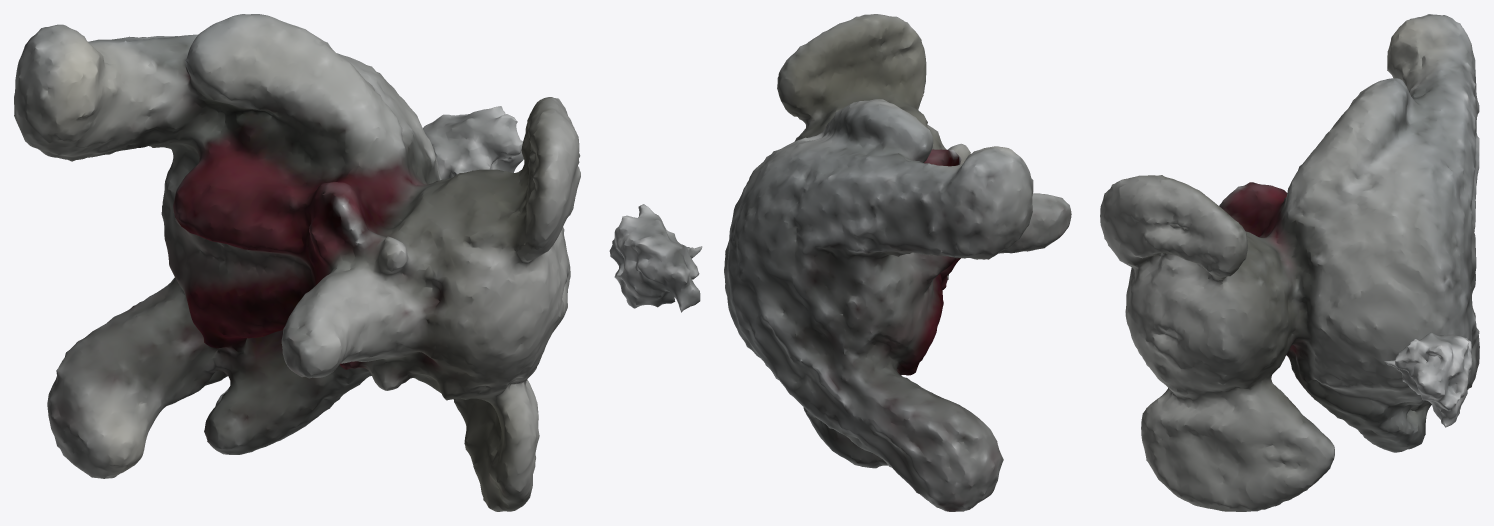
The model's file is elephant.glb.
3 renders of one model, left to right at view 1: azimuth 30°, elevation 25°; view 2: azimuth 150°, elevation 25°; view 3: azimuth 270°, elevation 25°, orthographic. The views are drawn at different scales.
Size of the model in its own units: 0.9947 by 0.847 by 0.7901.
